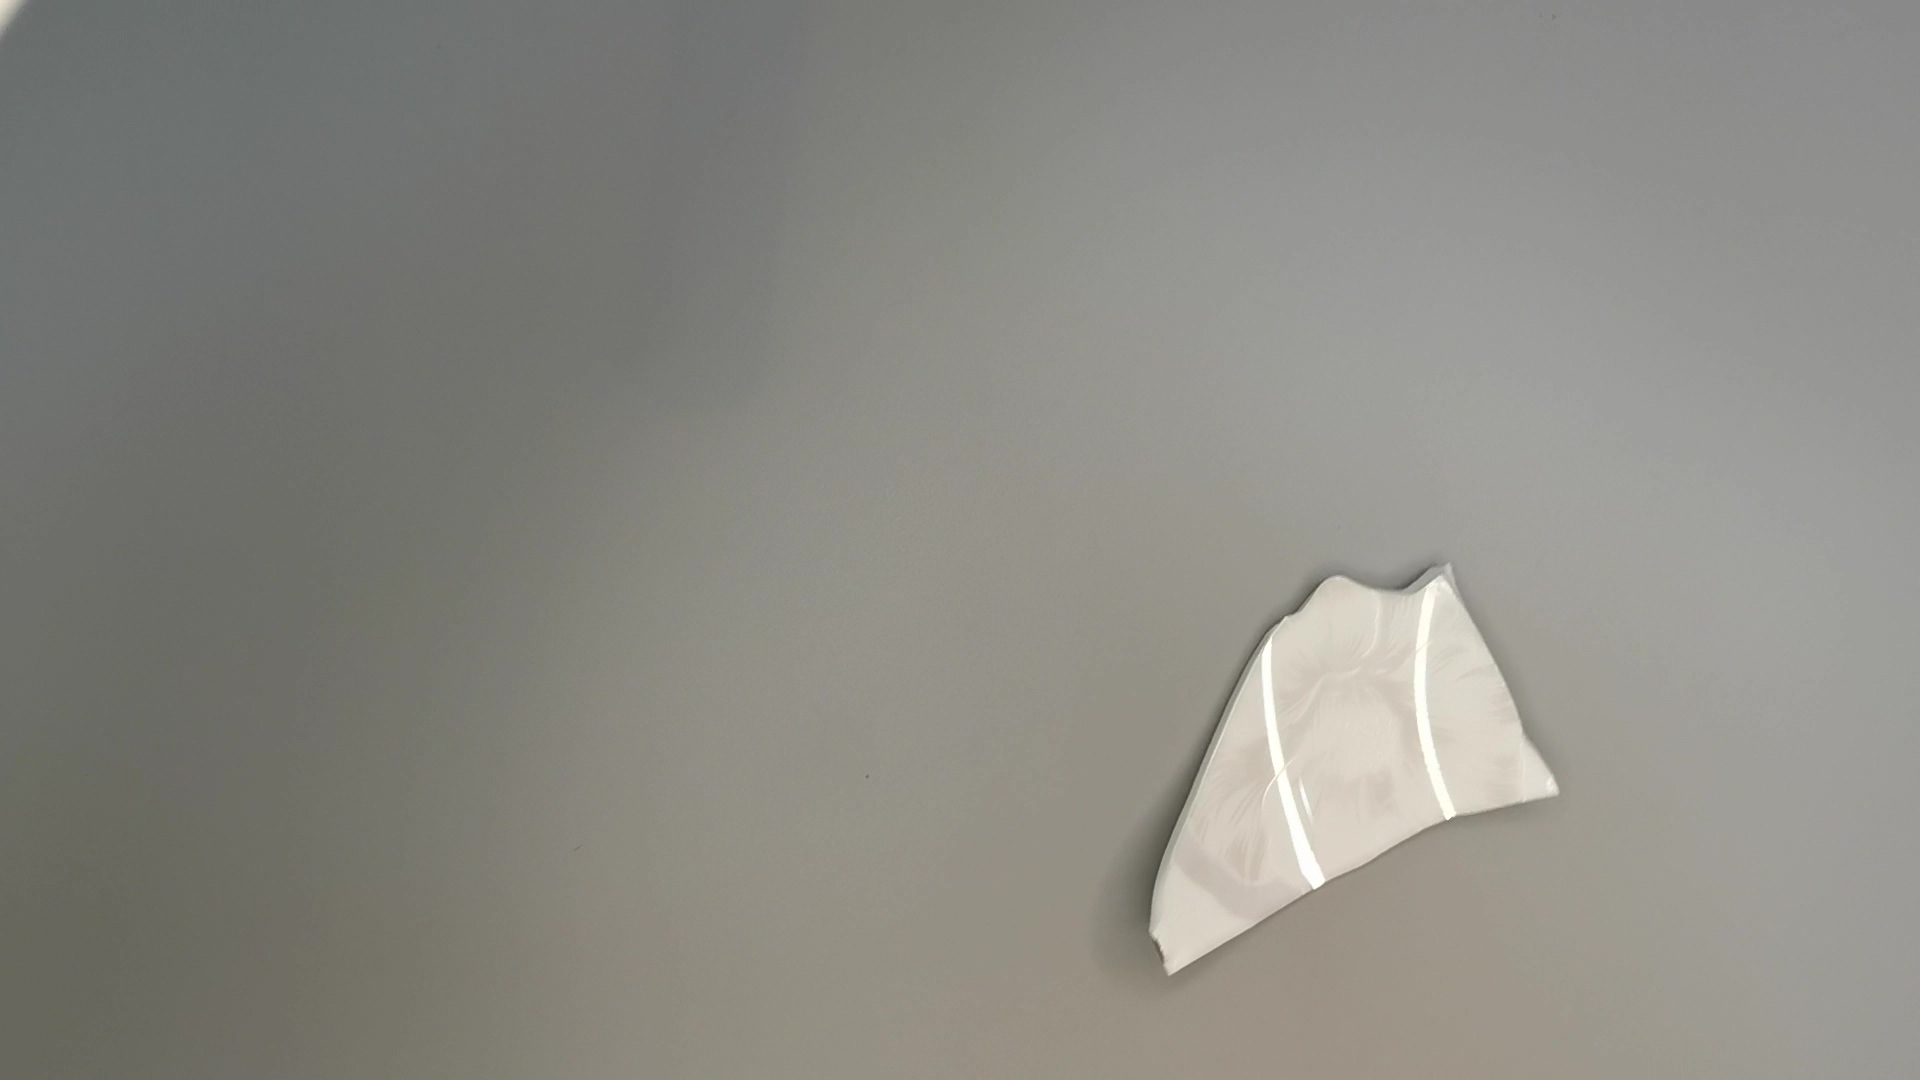ceramic: (1131, 553, 1564, 994)
